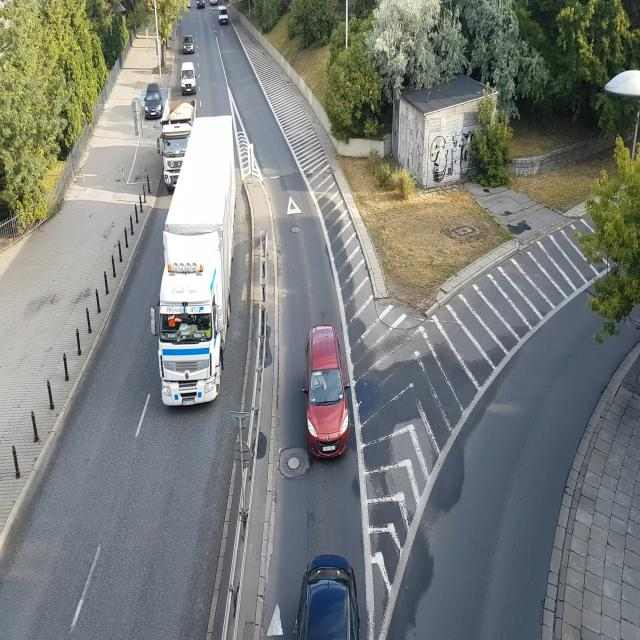car: (302, 317, 352, 469), (296, 542, 364, 640), (144, 85, 167, 120), (180, 61, 198, 92), (184, 40, 197, 55), (192, 0, 208, 10), (220, 12, 230, 26), (210, 0, 218, 7)
truck: (157, 180, 234, 398), (156, 105, 194, 188)
